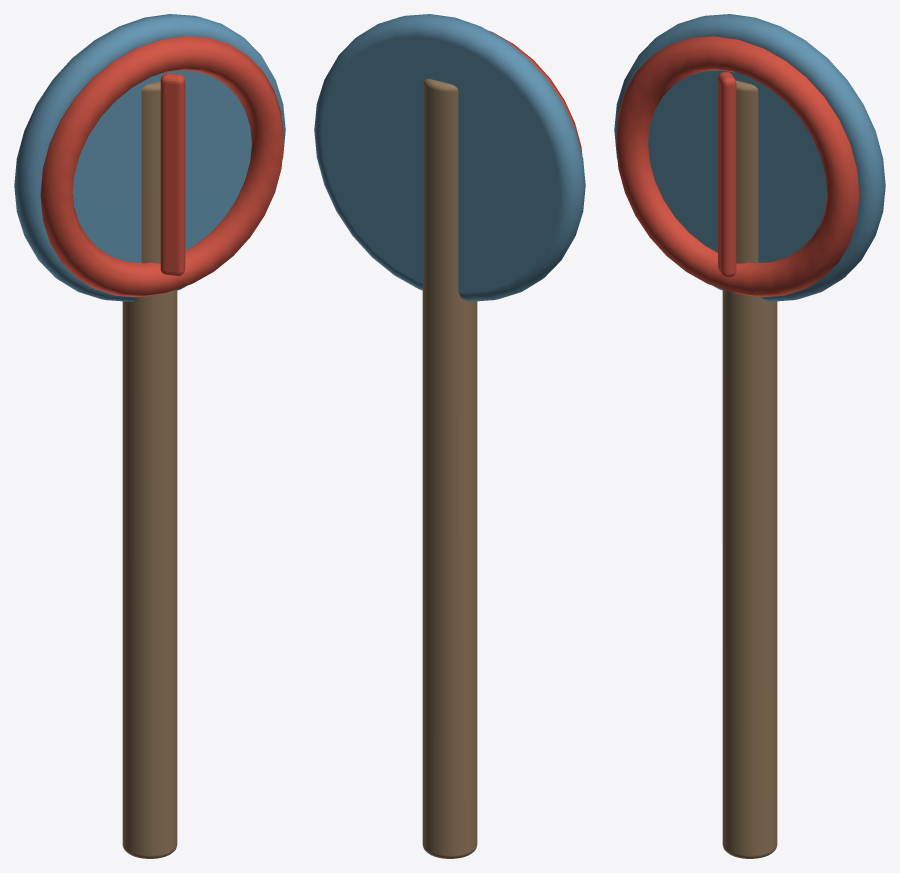
3 views of the same model, side by side, from view 1: azimuth 30°, elevation 25°; view 2: azimuth 150°, elevation 25°; view 3: azimuth 330°, elevation 25° (orthographic).
Visible parts, largest first — view 1: LOD0_SIGN_NO_PARKING_Pole, LOD0_SIGN_NO_PARKING_Plate, LOD0_SIGN_NO_PARKING_RedRing, LOD0_SIGN_NO_PARKING_Slash; view 2: LOD0_SIGN_NO_PARKING_Plate, LOD0_SIGN_NO_PARKING_Pole; view 3: LOD0_SIGN_NO_PARKING_Pole, LOD0_SIGN_NO_PARKING_Plate, LOD0_SIGN_NO_PARKING_RedRing, LOD0_SIGN_NO_PARKING_Slash.
Boxes of the visible parts, x1,y1,x2,y2 form: LOD0_SIGN_NO_PARKING_Pole: [122, 81, 177, 858]; LOD0_SIGN_NO_PARKING_Plate: [14, 14, 285, 301]; LOD0_SIGN_NO_PARKING_RedRing: [40, 36, 283, 297]; LOD0_SIGN_NO_PARKING_Slash: [160, 73, 185, 275]; LOD0_SIGN_NO_PARKING_Plate: [314, 14, 585, 301]; LOD0_SIGN_NO_PARKING_Pole: [422, 79, 477, 858]; LOD0_SIGN_NO_PARKING_Pole: [722, 80, 777, 858]; LOD0_SIGN_NO_PARKING_Plate: [614, 14, 885, 301]; LOD0_SIGN_NO_PARKING_RedRing: [616, 36, 859, 297]; LOD0_SIGN_NO_PARKING_Slash: [718, 72, 736, 277].
Size of what is drawn, in the model's own units: 1 by 3 by 0.2777.
